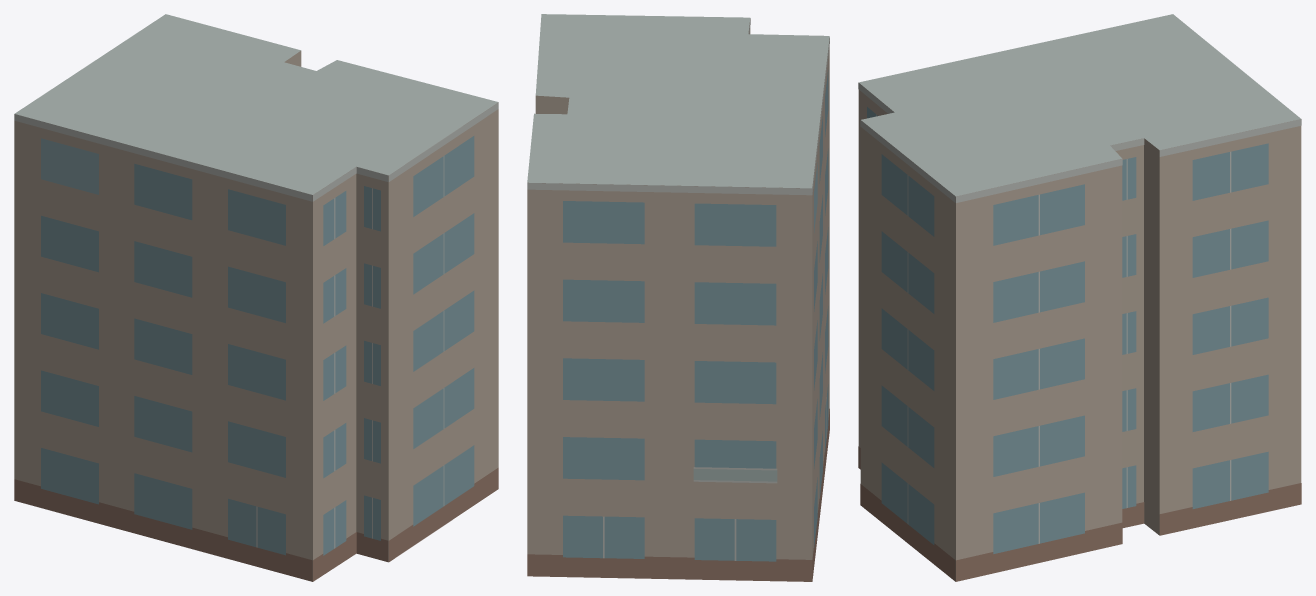
Rendered from survey-upis-32838853.glb.
3 views of the same model, side by side, from view 1: azimuth 30°, elevation 25°; view 2: azimuth 150°, elevation 25°; view 3: azimuth 270°, elevation 25° (orthographic). The views are drawn at different scales.
Visible parts, largest first — view 1: survey-upis-32838853.tmp; view 2: survey-upis-32838853.tmp; view 3: survey-upis-32838853.tmp.
Part boxes in pixels (box(x1,y1,x2,y2)): survey-upis-32838853.tmp: box(14, 14, 498, 581); survey-upis-32838853.tmp: box(527, 14, 829, 581); survey-upis-32838853.tmp: box(858, 14, 1301, 581).
Bounding box in the file's own units: 14.12 × 13.9 × 14.49.
